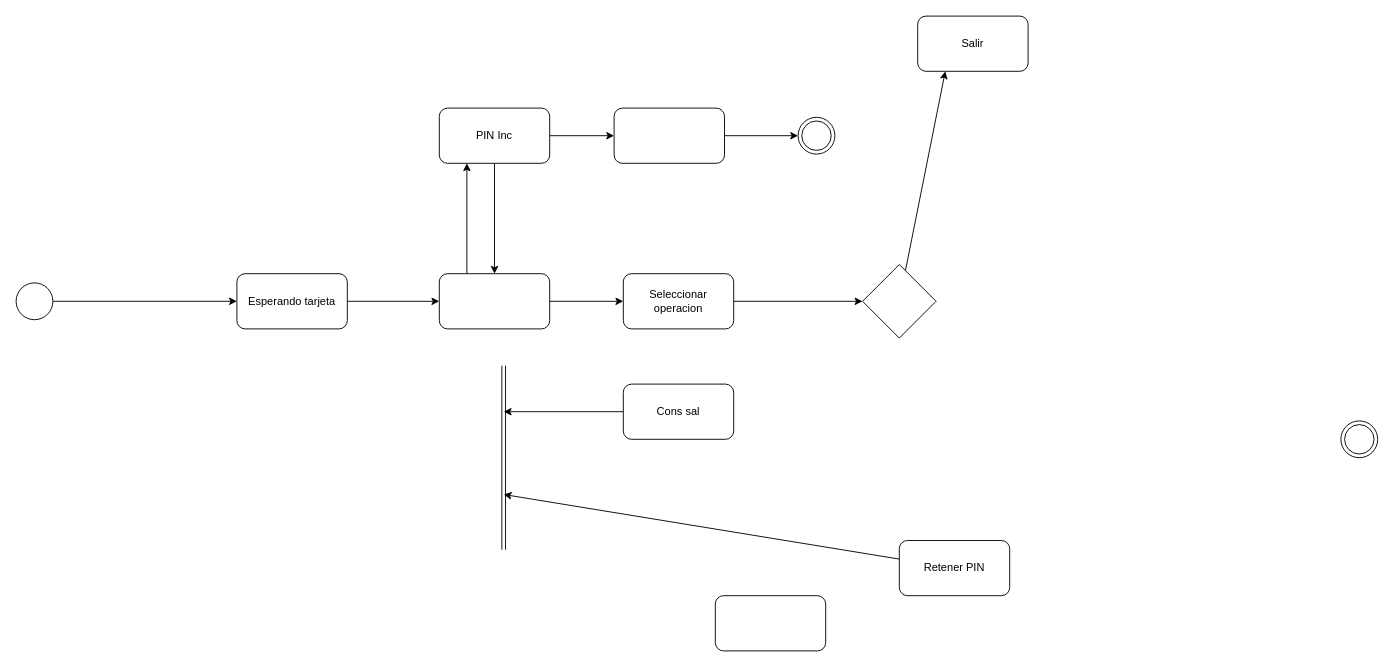
This 1394x667 diagram has some shape labels left out. Each missing label, with the centre of its shape:
Esperando PIN: (x=494, y=301)
Retener tarjeta: (x=668, y=135)
Saldo: (x=770, y=623)
